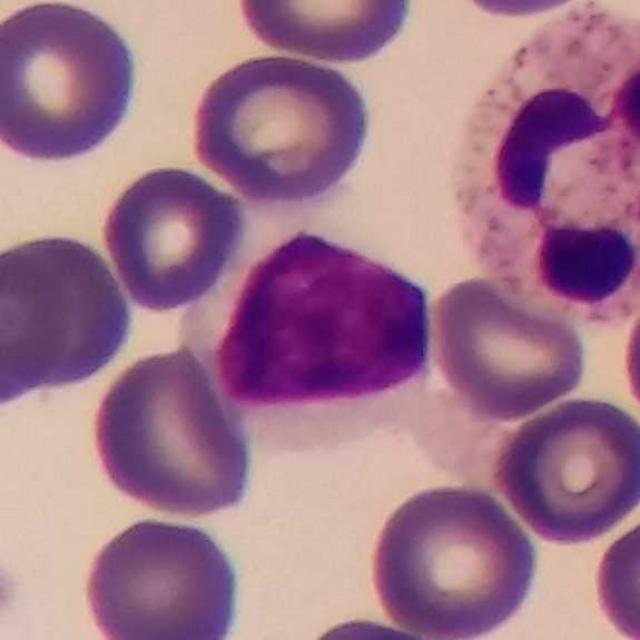Eosinophil: (442, 5, 640, 342)
Lymphocyte: (174, 175, 439, 450)
RBC: (84, 341, 258, 522), (184, 48, 377, 209), (364, 477, 543, 640), (228, 346, 441, 465), (426, 272, 591, 421), (0, 1, 146, 169), (97, 159, 250, 314), (487, 392, 639, 548), (77, 511, 247, 640), (0, 229, 83, 416), (232, 0, 420, 66), (589, 502, 640, 640), (280, 611, 478, 640), (435, 0, 612, 21), (617, 279, 640, 436)
